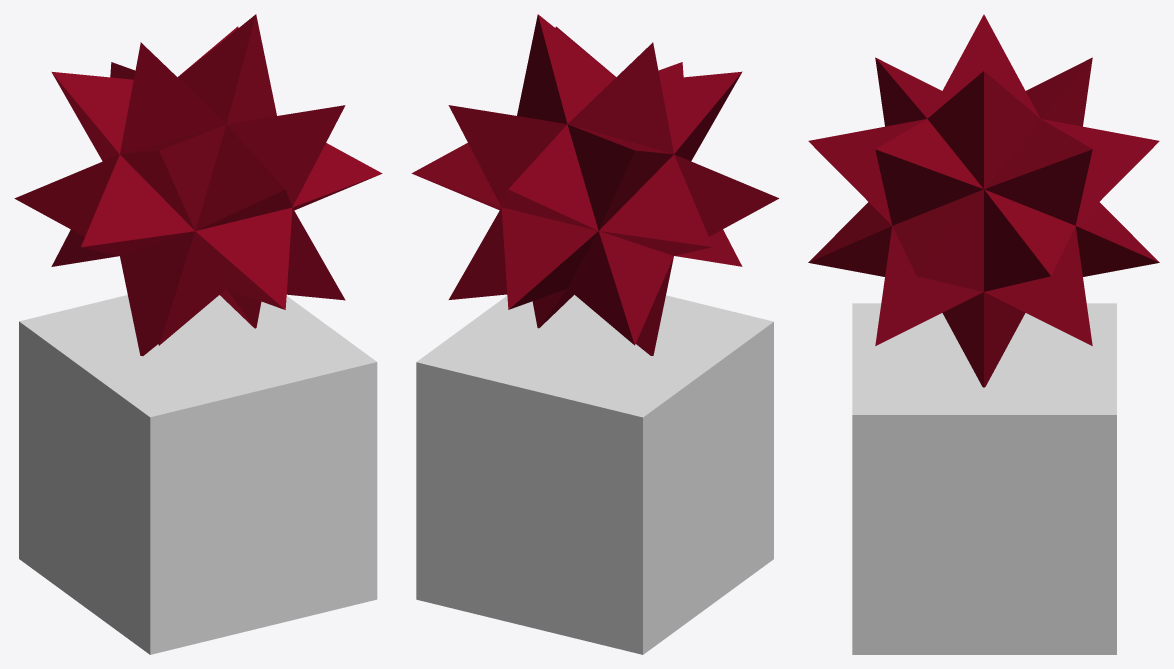
The model's file is horseman_blue88.glb.
3 renders of one model, left to right at view 1: azimuth 30°, elevation 25°; view 2: azimuth 150°, elevation 25°; view 3: azimuth 270°, elevation 25°, orthographic.
Visible parts, largest first — view 1: Cube, node_id3; view 2: Cube, node_id3; view 3: Cube, node_id3.
Part boxes in pixels (<box>): Cube: <box>19,295,377,654</box>; node_id3: <box>14,14,382,355</box>; Cube: <box>416,295,773,654</box>; node_id3: <box>411,14,778,355</box>; Cube: <box>852,303,1116,654</box>; node_id3: <box>808,14,1159,387</box>.
Size of the model in its own units: 2.05 by 3.57 by 2.05.
Materials: 2 (1 with a texture image).
